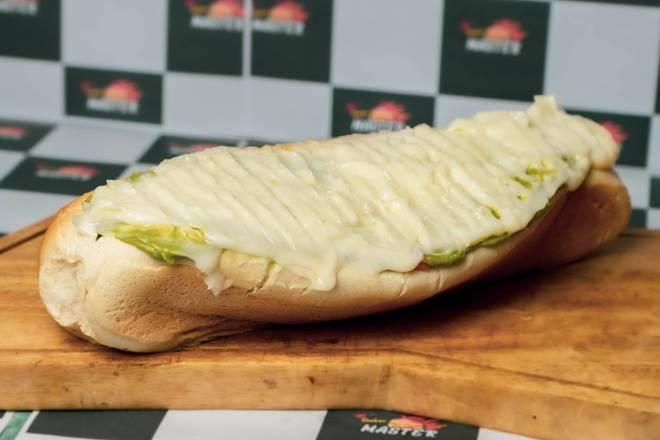Completos: (34, 97, 611, 359)
